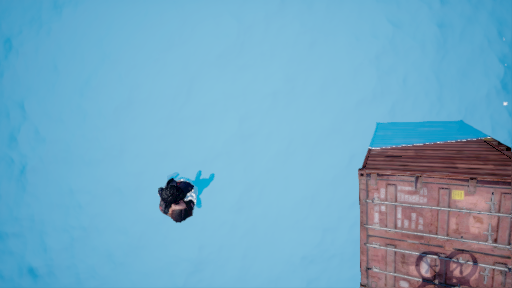person: (160, 168, 219, 221)
